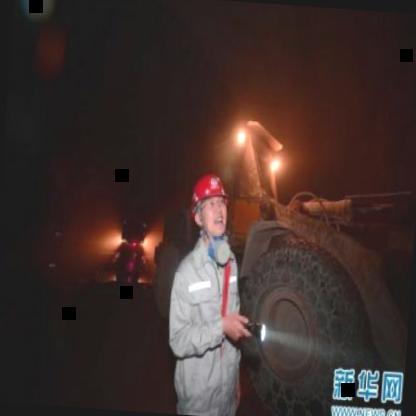helmet: (188, 169, 232, 242)
